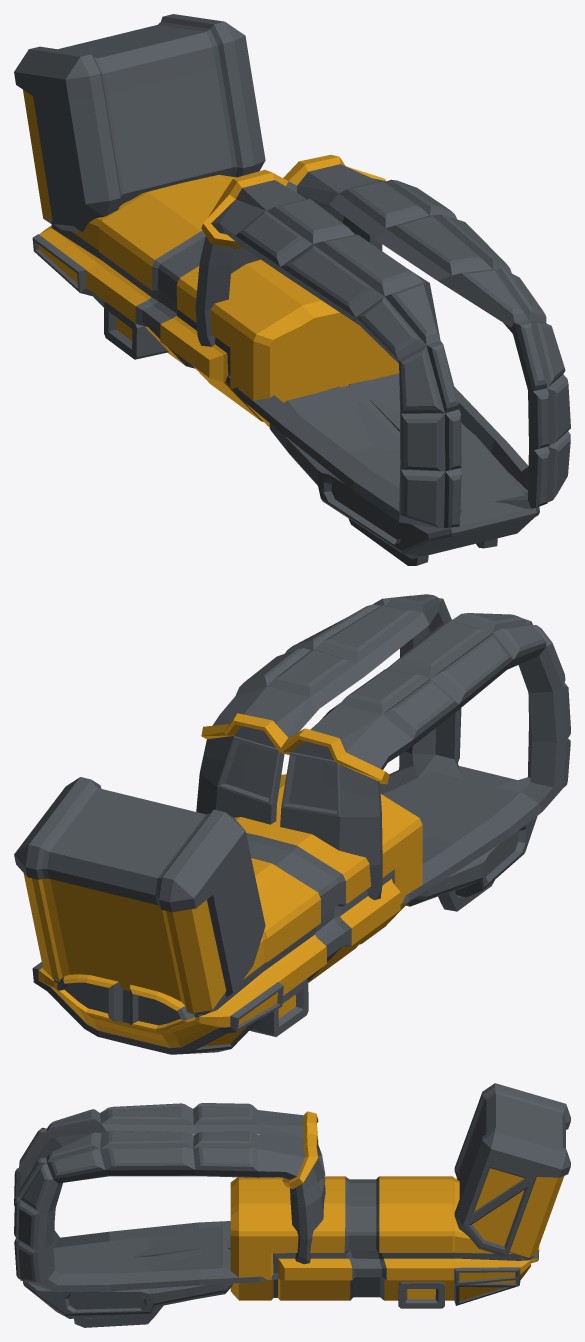
File: Personal_Vehicle_02_Body_Yellow.fbx
3 renders of one model, top to bottom at view 1: azimuth 30°, elevation 25°; view 2: azimuth 150°, elevation 25°; view 3: azimuth 270°, elevation 25°, orthographic. The views are drawn at different scales.
Visible parts, largest first — view 1: Personal_Vehicle_02_Body_Yellow; view 2: Personal_Vehicle_02_Body_Yellow; view 3: Personal_Vehicle_02_Body_Yellow.
Boxes of the visible parts, box(x1,y1,x2,y2) form: Personal_Vehicle_02_Body_Yellow: box(14, 14, 570, 565); Personal_Vehicle_02_Body_Yellow: box(14, 594, 570, 1054); Personal_Vehicle_02_Body_Yellow: box(14, 1083, 570, 1327).
Bounding box in the file's own units: 104 × 144 × 353.
Materials: 2 (2 with a texture image).
